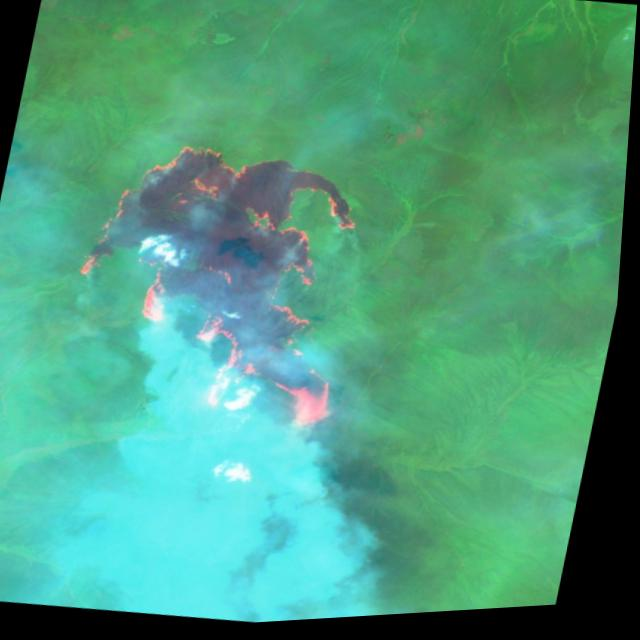fire: (41, 116, 405, 472)
